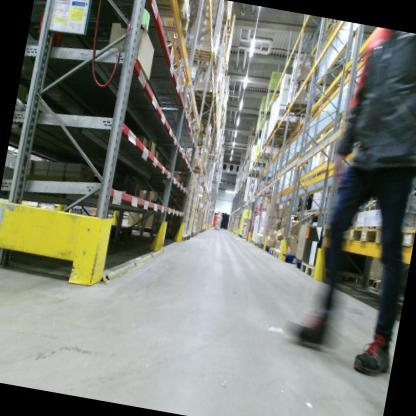pallet: (110, 0, 197, 37), (169, 34, 223, 68), (343, 217, 394, 251), (187, 82, 218, 108), (280, 96, 313, 117), (396, 217, 416, 250), (211, 8, 234, 36), (298, 257, 319, 282), (273, 118, 299, 134), (290, 255, 303, 270), (281, 252, 296, 265), (262, 239, 270, 255), (274, 248, 283, 262), (267, 247, 276, 257)
